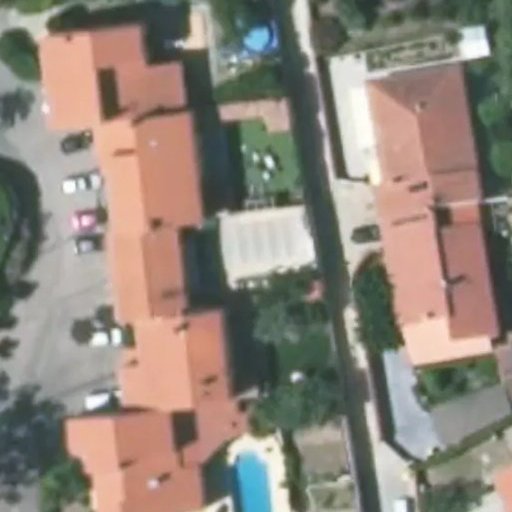pool: (213, 227, 296, 257)
